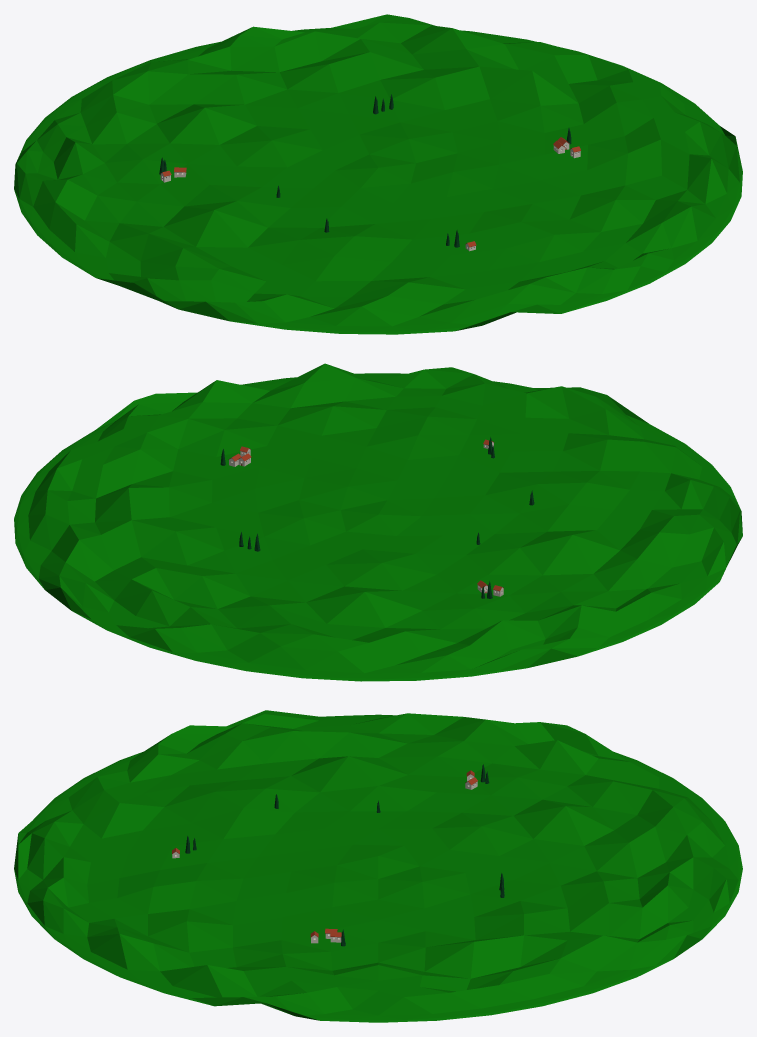
The model's file is terrain-low-hills-3.dae.
The picture shows the model from 3 angles, top to bottom: view 1: azimuth 30°, elevation 25°; view 2: azimuth 150°, elevation 25°; view 3: azimuth 270°, elevation 25°; orthographic projection.
Parts seen in each view (by area): view 1: Icosphere_005; view 2: Icosphere_005; view 3: Icosphere_005.
Part boxes in pixels (left/top/right/bottom): Icosphere_005: left=14, top=14, right=742, bottom=334; Icosphere_005: left=14, top=363, right=742, bottom=681; Icosphere_005: left=14, top=710, right=742, bottom=1022.
Bounding box in the file's own units: 14.52 × 14.52 × 0.5555.
